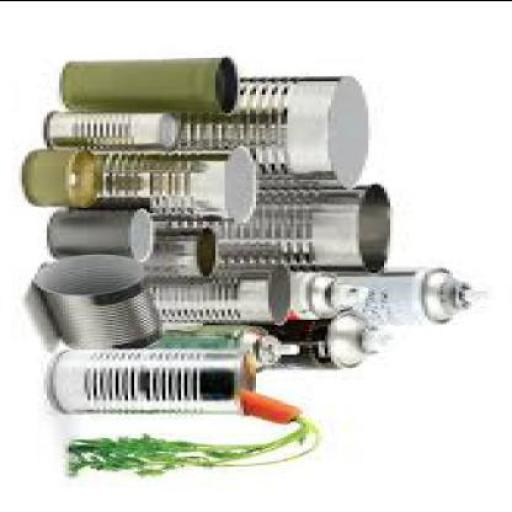metal: (150, 185, 393, 275), (181, 77, 368, 190), (91, 147, 259, 223), (38, 254, 166, 350), (57, 352, 246, 416), (66, 59, 243, 113), (150, 264, 293, 324), (334, 270, 446, 324), (50, 208, 156, 262), (47, 112, 181, 151), (274, 314, 362, 370), (28, 150, 106, 211), (166, 328, 272, 370), (153, 230, 219, 278), (288, 273, 340, 320)
